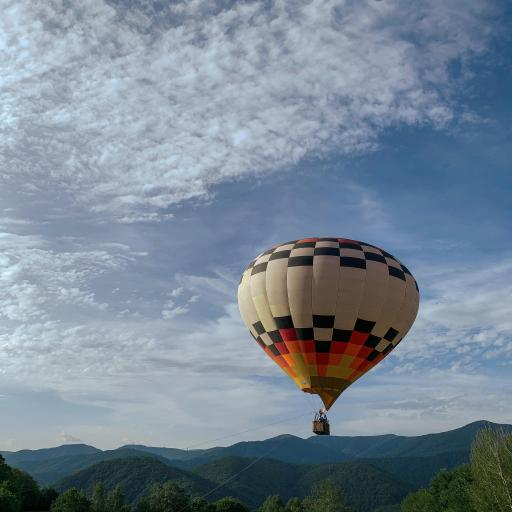hot air ballon: (236, 236, 420, 436)
